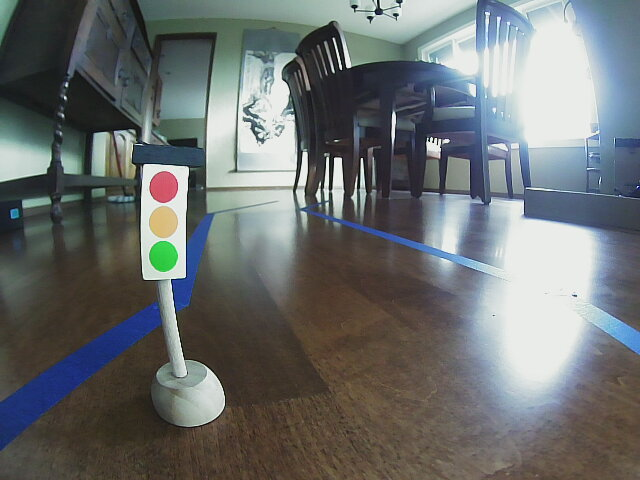TrafficLight: (137, 146, 188, 280)
